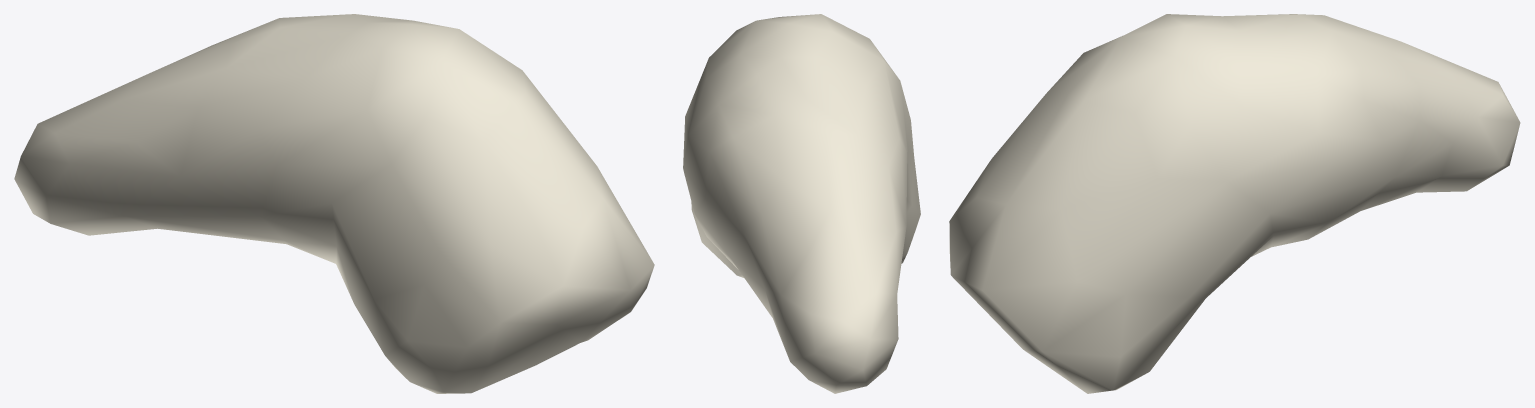
The model's file is fma55116_mm1171.glb.
3 renders of one model, left to right at view 1: azimuth 30°, elevation 25°; view 2: azimuth 150°, elevation 25°; view 3: azimuth 270°, elevation 25°, orthographic. The views are drawn at different scales.
Visible parts, largest first — view 1: FMA55116_MM1171; view 2: FMA55116_MM1171; view 3: FMA55116_MM1171.
Boxes of the visible parts, x1=… form: FMA55116_MM1171: x1=14, y1=14, x2=654, y2=393; FMA55116_MM1171: x1=683, y1=14, x2=920, y2=393; FMA55116_MM1171: x1=949, y1=14, x2=1520, y2=393.
Bounding box in the file's own units: 0.00259 × 0.00201 × 0.00318.
